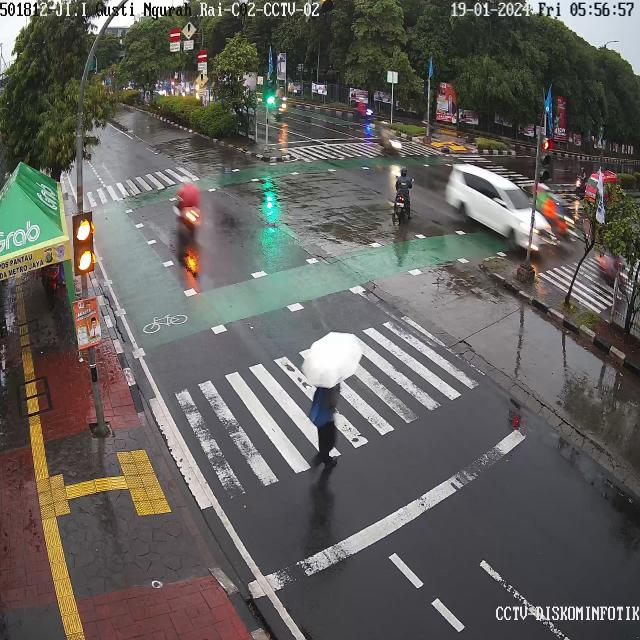Payung: (303, 327, 362, 394)
